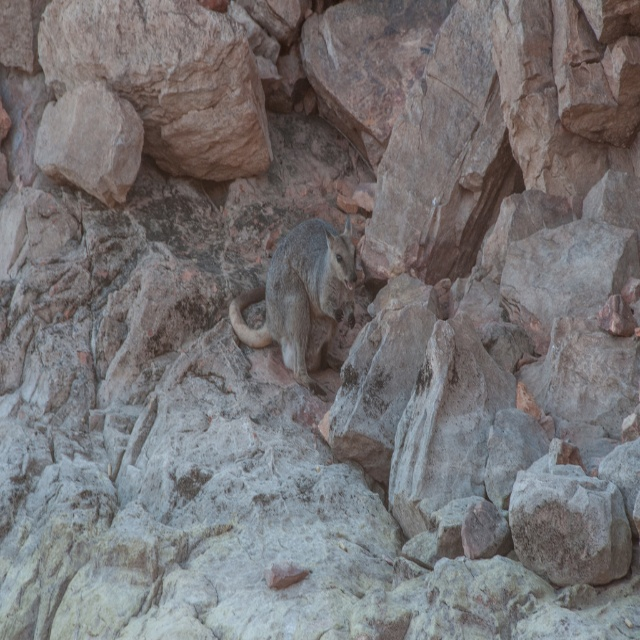Kangaroo: (231, 216, 357, 400)
